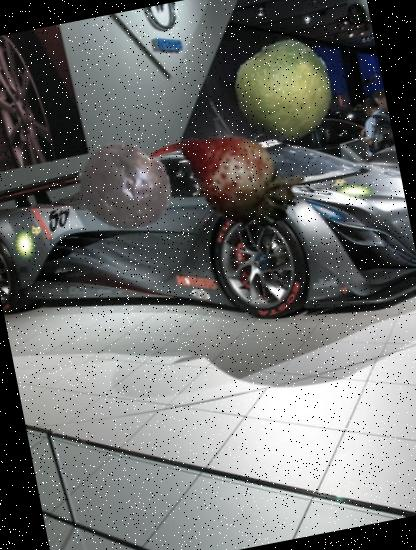Limes: (226, 33, 342, 149)
Passion: (69, 130, 183, 244)
Strawberry: (172, 107, 312, 247)
